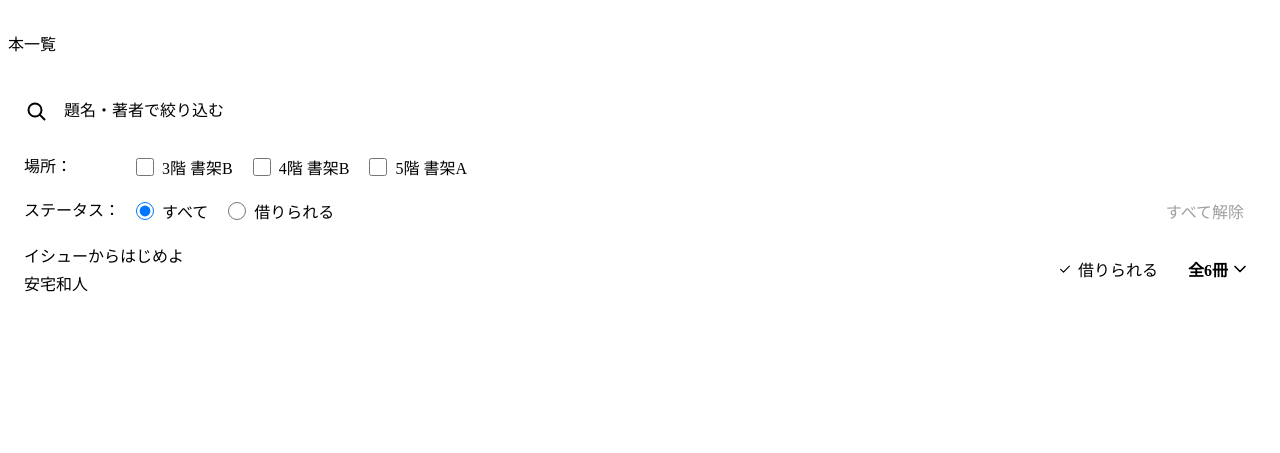
Test: BookListPage の置き場所ごとの行 › SB-55: 「残りn冊」のある行はトグルではなくリンクで、押すと棚にある本の本詳細画面へ移動する
Click the button "イシューからはじめよ 安宅和人 借りられる 全6冊": (104, 256) [8, 231, 1272, 307]
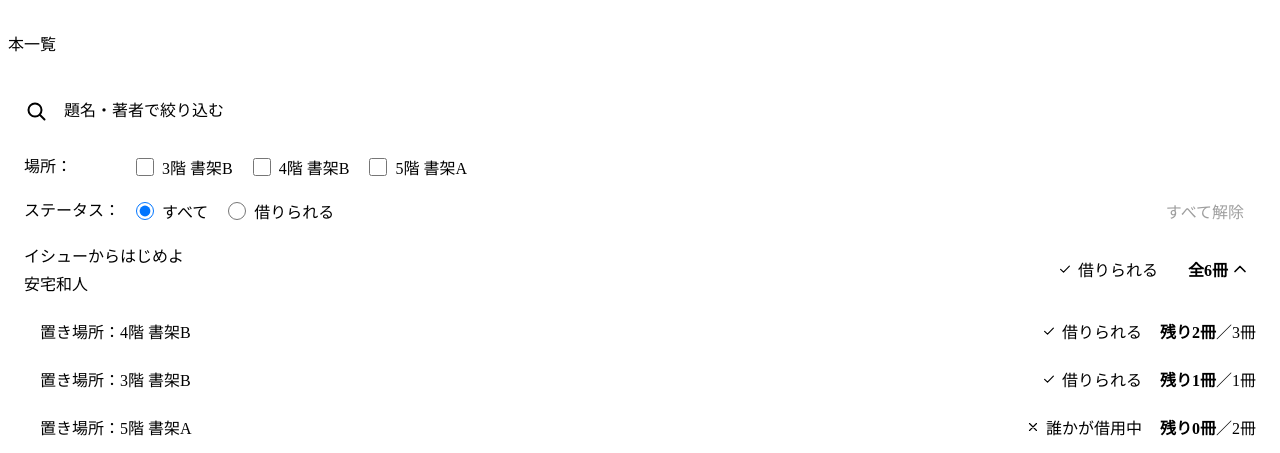
Click the link "置き場所：4階 書架B 借りられる 残り2冊／3冊": (80, 332) [40, 324, 1256, 341]
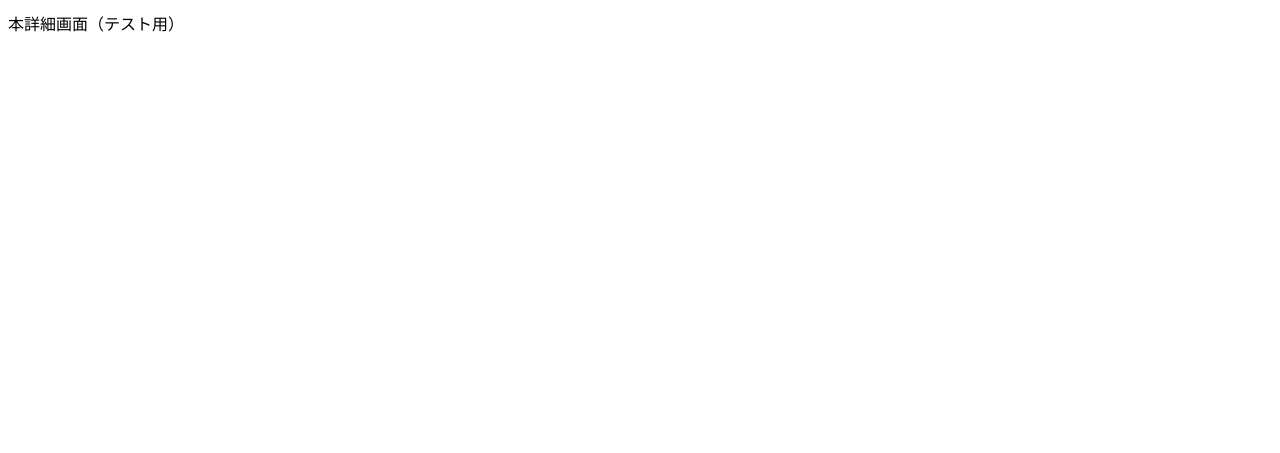
Expected: the text "本詳細画面（テスト用）" is shown, [8, 16, 184, 33]
